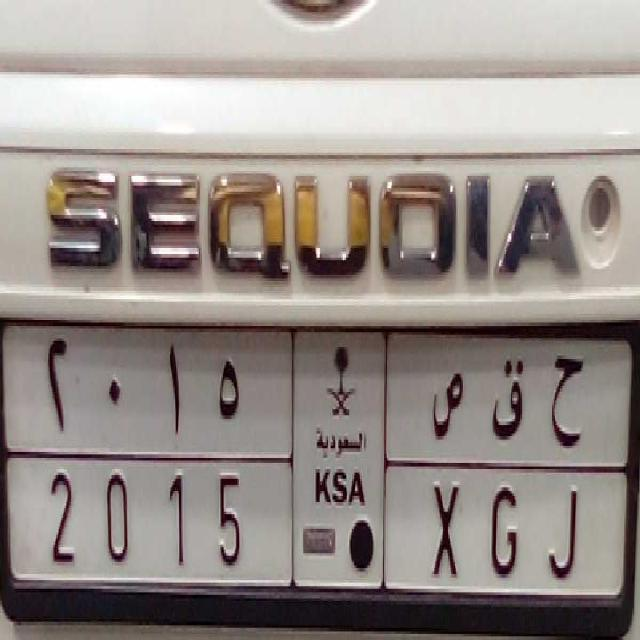license_plate: (5, 460, 624, 601)
